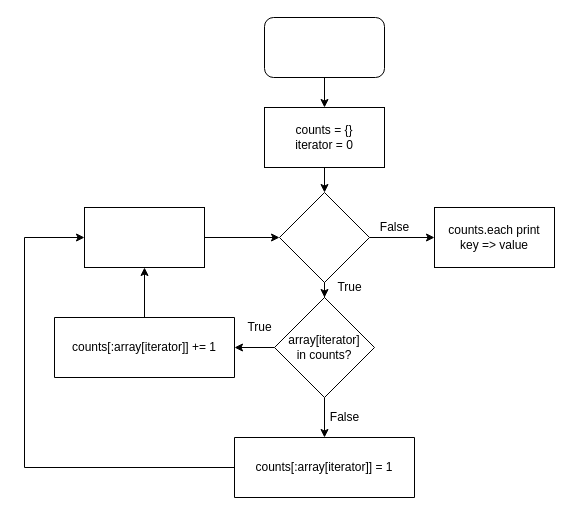
Image size: 572x515. Some labels were removed from this diagram. The shapes that lost their labels are listed below. From the top down, each one's box as (x1, y1, x2, y2) in pixels, then its label:
(264, 16, 384, 78): START
(84, 206, 204, 268): iterator += 1
(278, 192, 370, 282): iterator < array.size?
